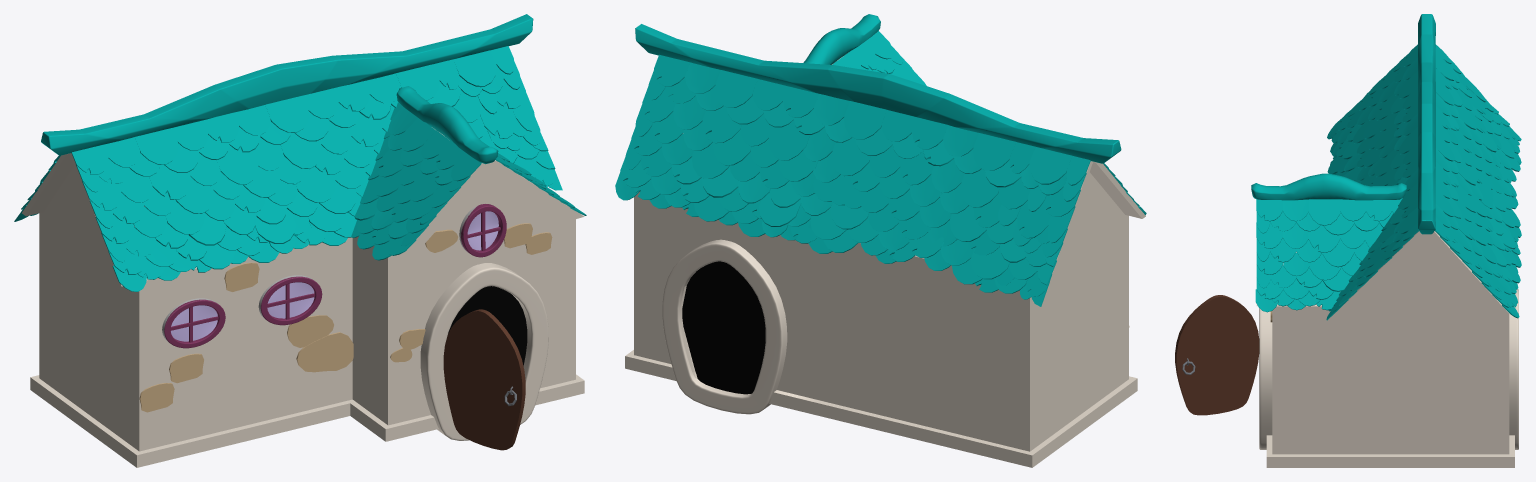
Rendered from Correct1.fbx.
3 renders of one model, left to right at view 1: azimuth 30°, elevation 25°; view 2: azimuth 150°, elevation 25°; view 3: azimuth 270°, elevation 25°, orthographic. The views are drawn at different scales.
Parts seen in each view (by area): view 1: _row_roof_roof_tile1_Tile_Chipped8, polySurface14, polySurface16, polySurface15, pCylinder11, Window2_Gate_Window, Window2_pPlane5, polySurface12; view 2: _row_roof_roof_tile1_Tile_Chipped8, polySurface14, polySurface12, polySurface6; view 3: _row_roof_roof_tile1_Tile_Chipped8, polySurface14, polySurface16, polySurface15, polySurface6.
Part boxes in pixels (box(x1,y1,x2,y2)): _row_roof_roof_tile1_Tile_Chipped8: box(14, 14, 586, 291); polySurface14: box(22, 127, 584, 467); polySurface16: box(443, 309, 525, 450); polySurface15: box(420, 263, 548, 440); pCylinder11: box(139, 223, 552, 412); Window2_Gate_Window: box(162, 204, 506, 348); Window2_pPlane5: box(171, 211, 498, 341); polySurface12: box(448, 286, 527, 365); _row_roof_roof_tile1_Tile_Chipped8: box(615, 14, 1146, 306); polySurface14: box(625, 56, 1145, 467); polySurface12: box(682, 261, 765, 394); polySurface6: box(662, 239, 787, 414); _row_roof_roof_tile1_Tile_Chipped8: box(1251, 14, 1521, 320); polySurface14: box(1256, 231, 1514, 467); polySurface16: box(1175, 295, 1259, 415); polySurface15: box(1259, 308, 1272, 449); polySurface6: box(1509, 289, 1518, 449).
Size of the model in its own units: 17.12 by 11.09 by 12.12.
Materials: 1 (1 with a texture image).
